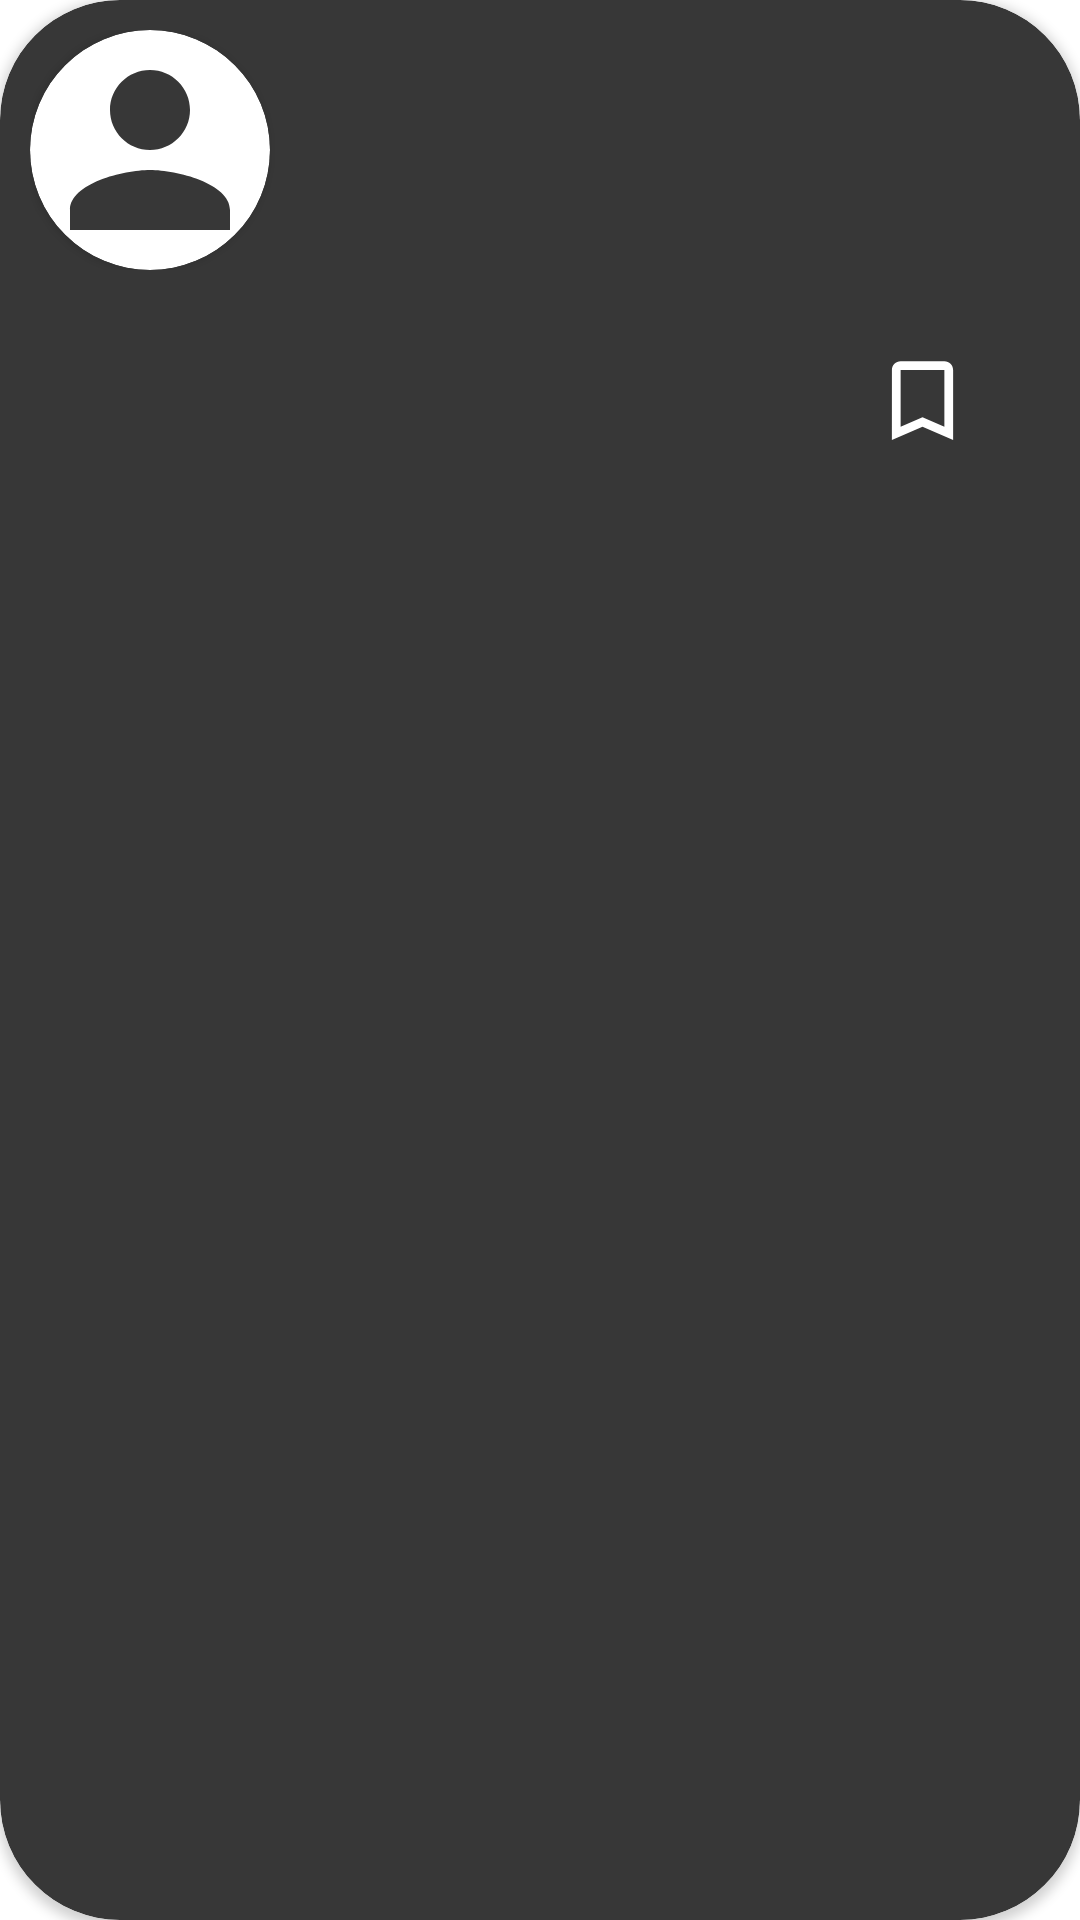

Named icons in this screenshot (1080 × 1920) and their bounding boxes, (x1, y1, x2, y2):
profile unfocused: (30, 30, 270, 270)
